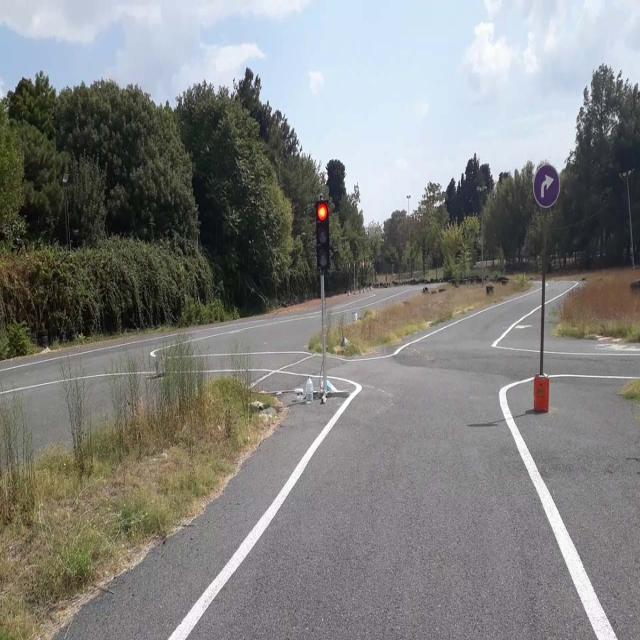kirmizi: (317, 199, 331, 270)
sag: (533, 165, 560, 207)
